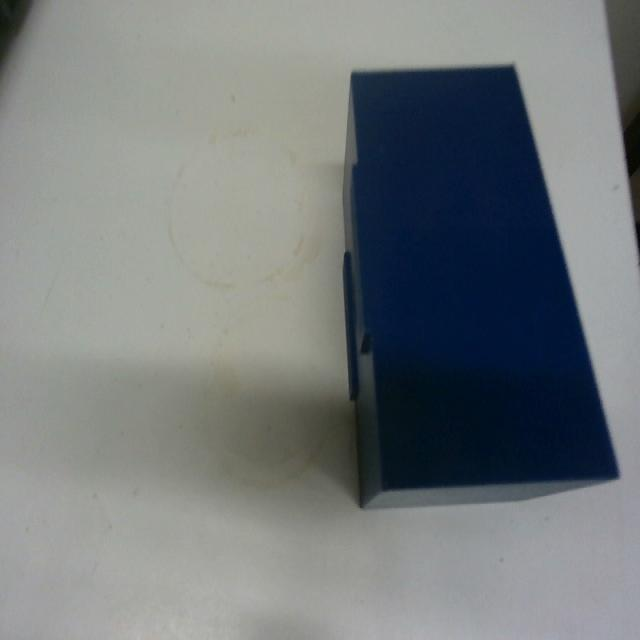Blue Cuboid: (339, 60, 620, 509)
